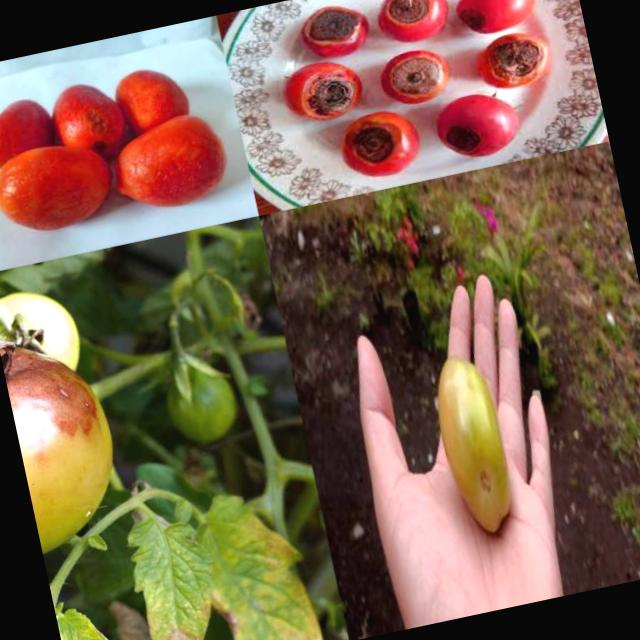Rotten_Tomato: (0, 286, 178, 561), (98, 105, 237, 223), (0, 129, 124, 242), (40, 74, 134, 170), (332, 104, 428, 184), (106, 58, 196, 142), (432, 86, 526, 164), (279, 53, 372, 129), (372, 40, 456, 112), (473, 26, 556, 96), (0, 92, 64, 175), (297, 0, 379, 64), (372, 0, 457, 47), (448, 0, 547, 38)
